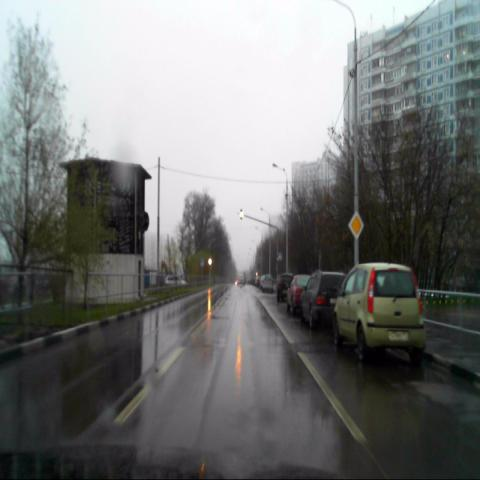2_1: (347, 210, 364, 238)
